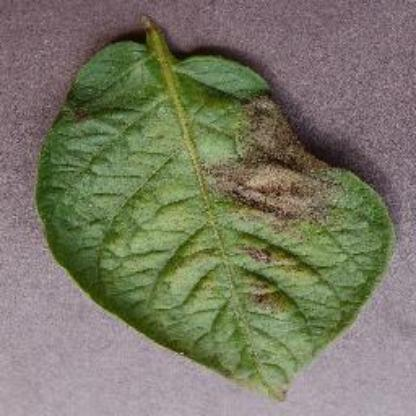Late-Blight: (32, 18, 384, 398)
